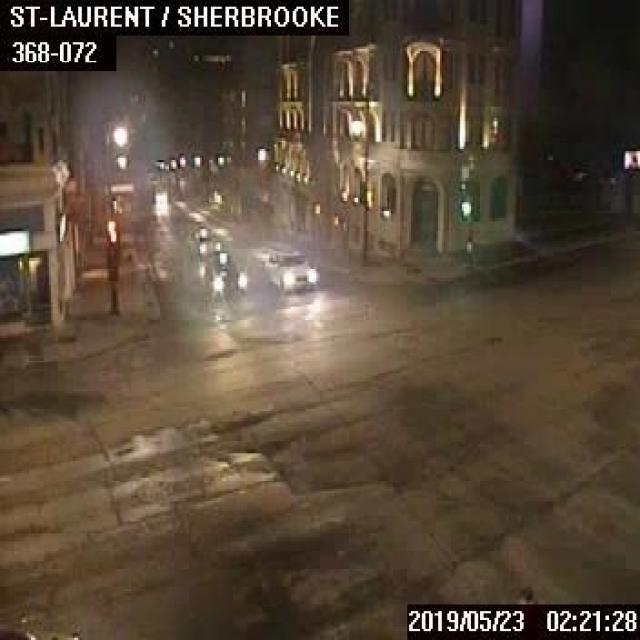vehicle: (262, 247, 318, 290), (201, 254, 246, 296), (185, 226, 221, 258)
